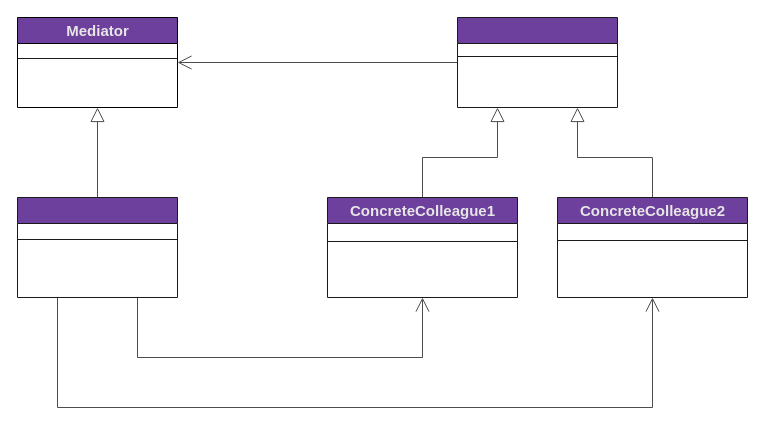
The diagram is 765 pixels wide and 439 high, and some of its shapes have lost their labels. The shapes that lost their labels are listed below. From the top down, each one's centre as x and y in pixels, then its label:
At (x=537, y=62): "Colleague".
At (x=97, y=247): "ConcreteMediator".
